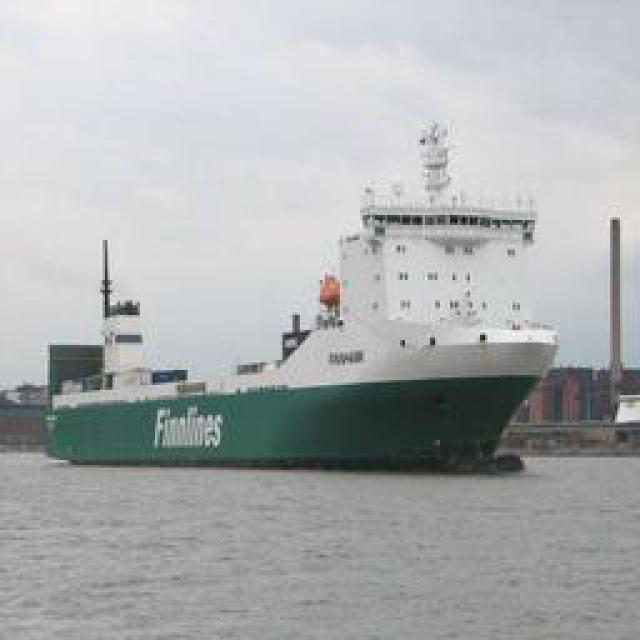Ship: (55, 156, 558, 469)
